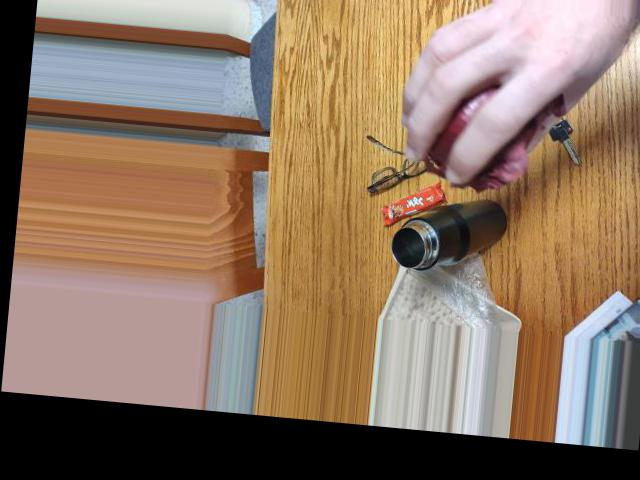onion: (418, 64, 558, 173)
